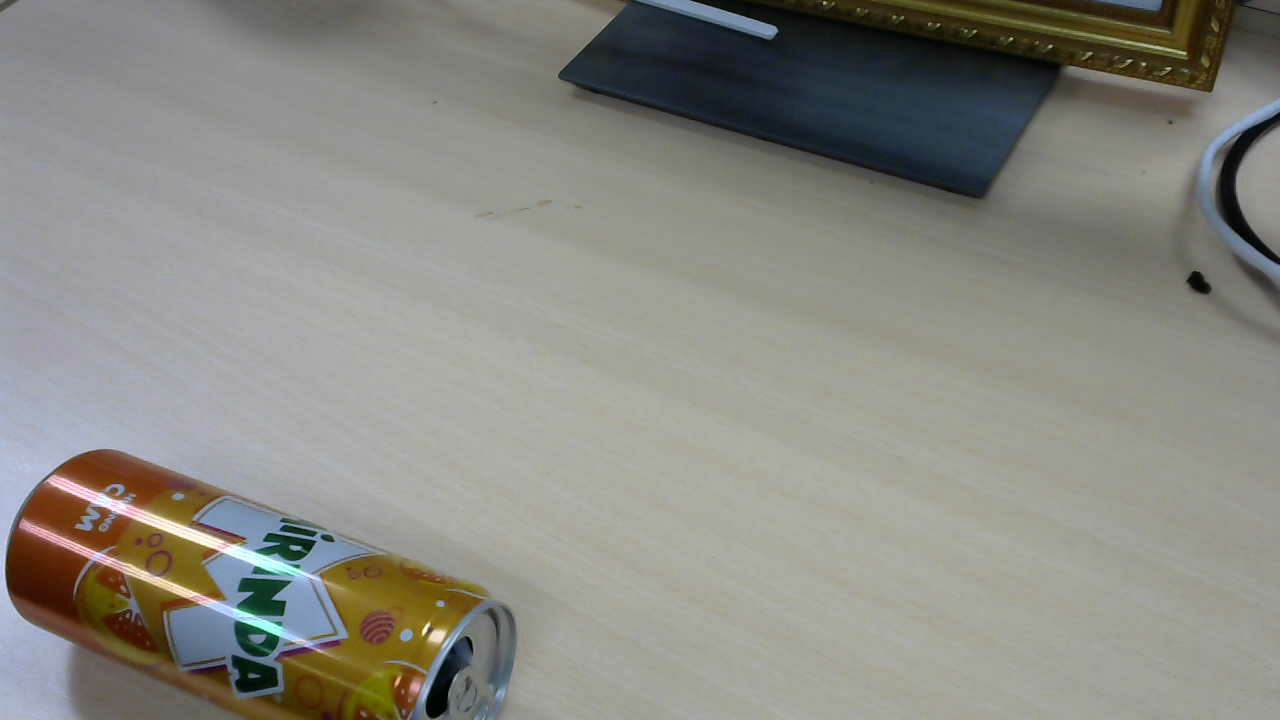Mirinda: (9, 456, 533, 696)
